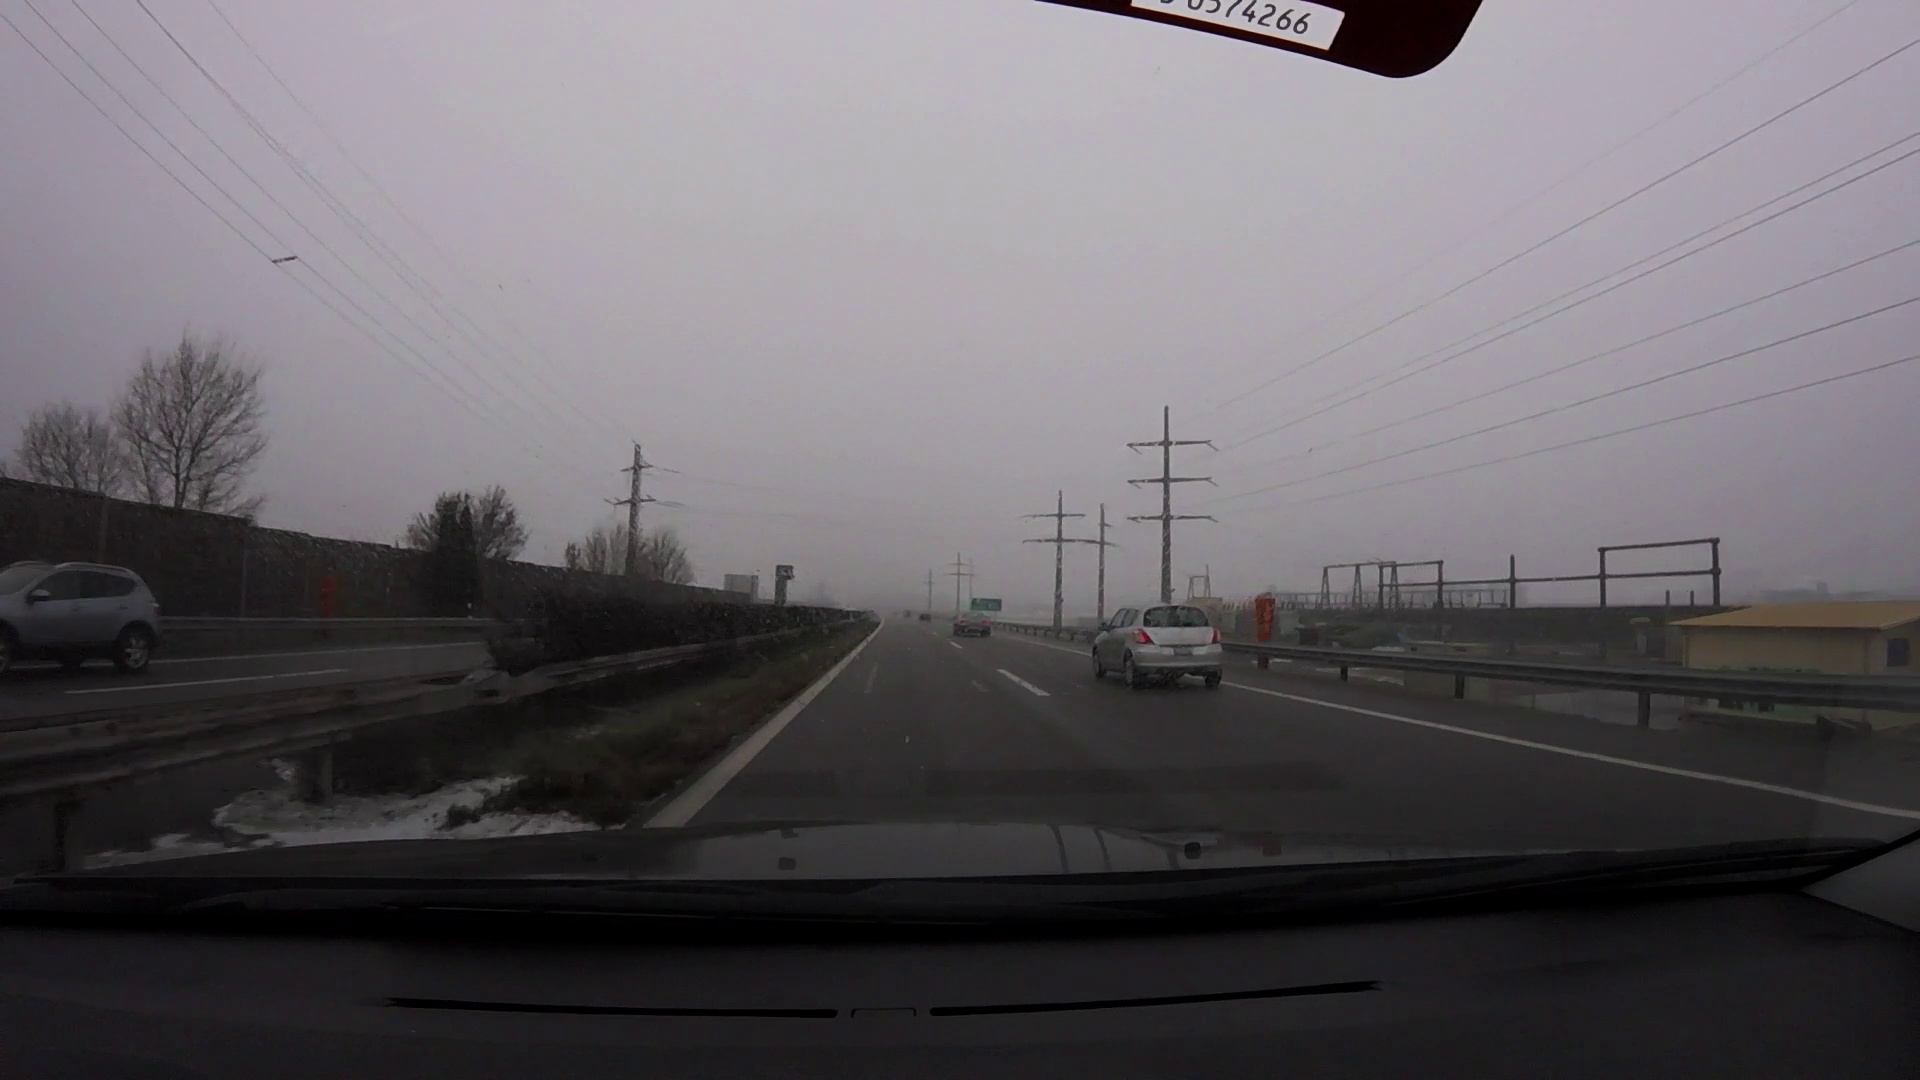radar: (773, 563, 798, 607)
